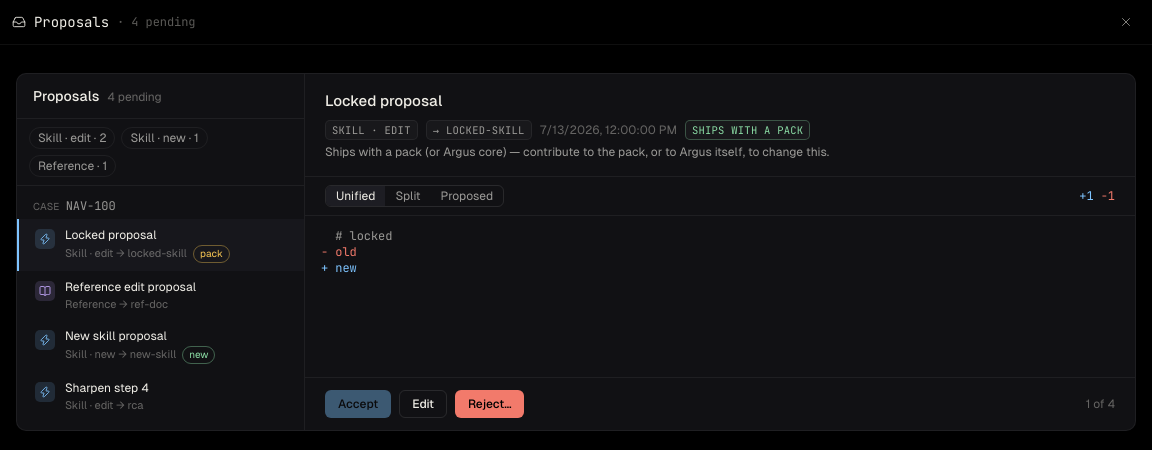
Scenario: ProposalsStandalone › accept keeps selection on the row, flips it to accepted, offers Share
Click the button with aria-label "Select proposal Sharpen step 4".
click(107, 388)  # box left=17, top=372, right=304, bottom=422
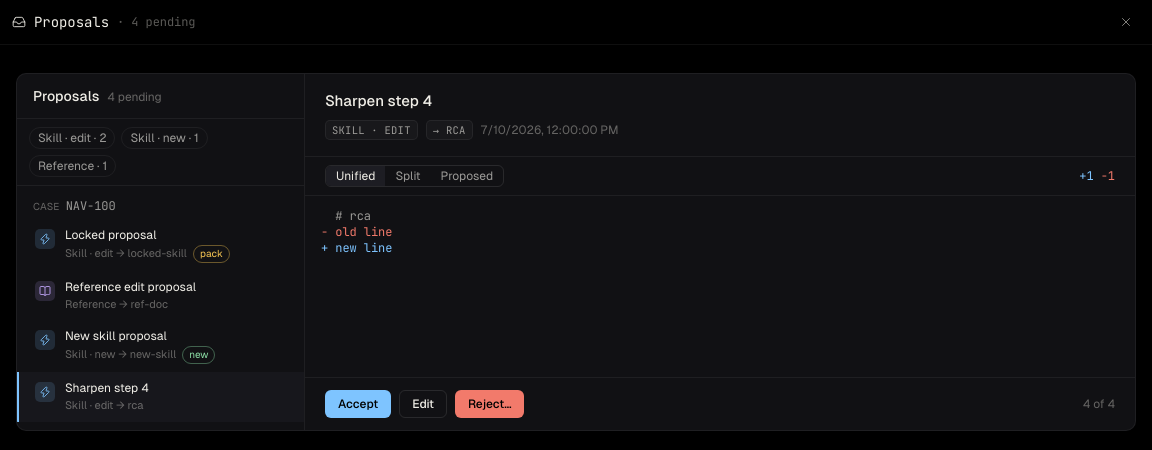
Click the button with aria-label "Accept Sharpen step 4".
click(358, 404)  # box left=325, top=390, right=391, bottom=418
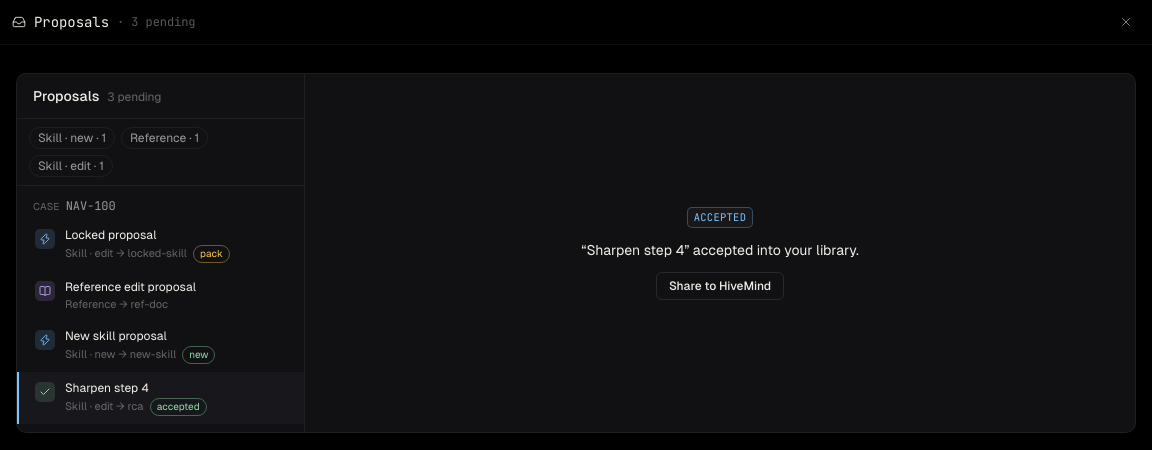
Now the text "“Sharpen step 4” accepted into your library." is shown, box left=581, top=240, right=859, bottom=260
Now the button with aria-label "Share to HiveMind: rca" is shown, box left=656, top=272, right=784, bottom=300
